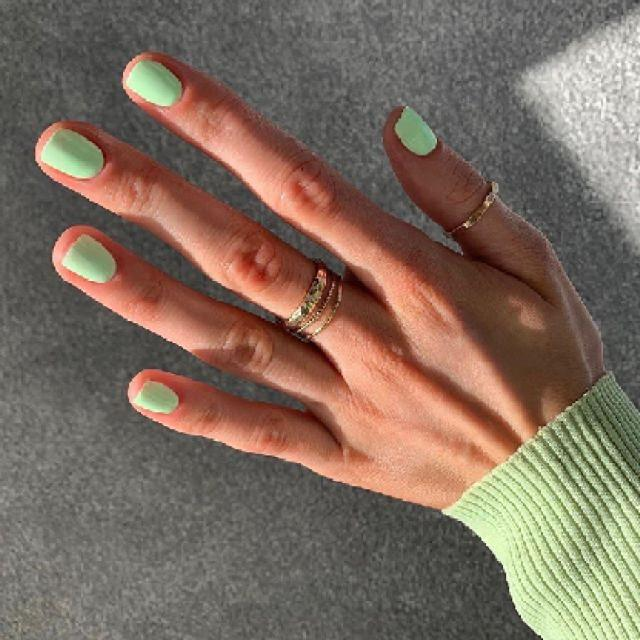Nail: (40, 129, 105, 179), (61, 234, 116, 284), (125, 59, 182, 106), (394, 106, 438, 156), (134, 380, 179, 413)
